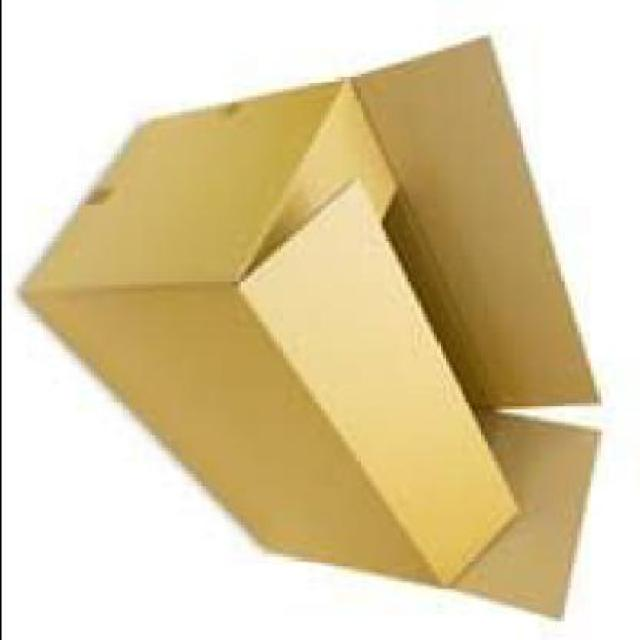CARDBOARD: (23, 32, 605, 614)
